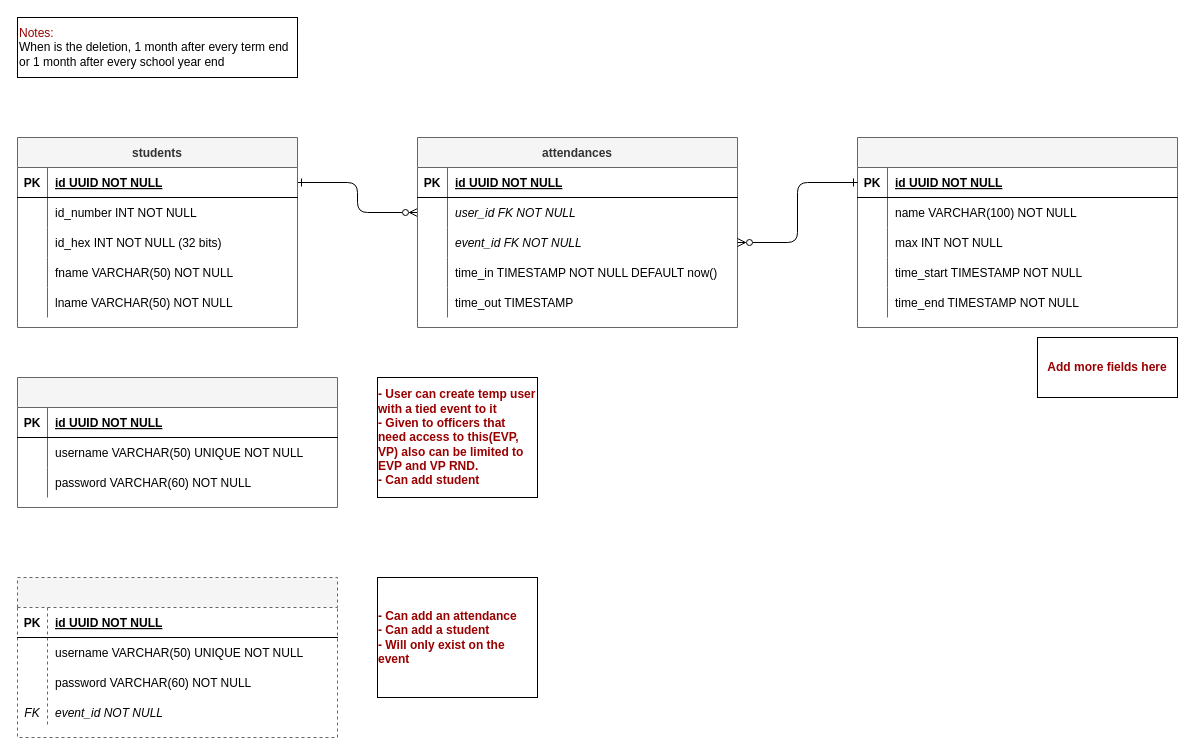
Image size: 1195x755. Some labels were removed from this diagram. The shapes that lost their labels are listed below. From the top down, each one's box as (x1, y1, x2, y2) in pixels, then its label:
(856, 136, 1178, 328): events
(16, 376, 338, 508): users
(16, 576, 338, 738): temp_users (redis)
